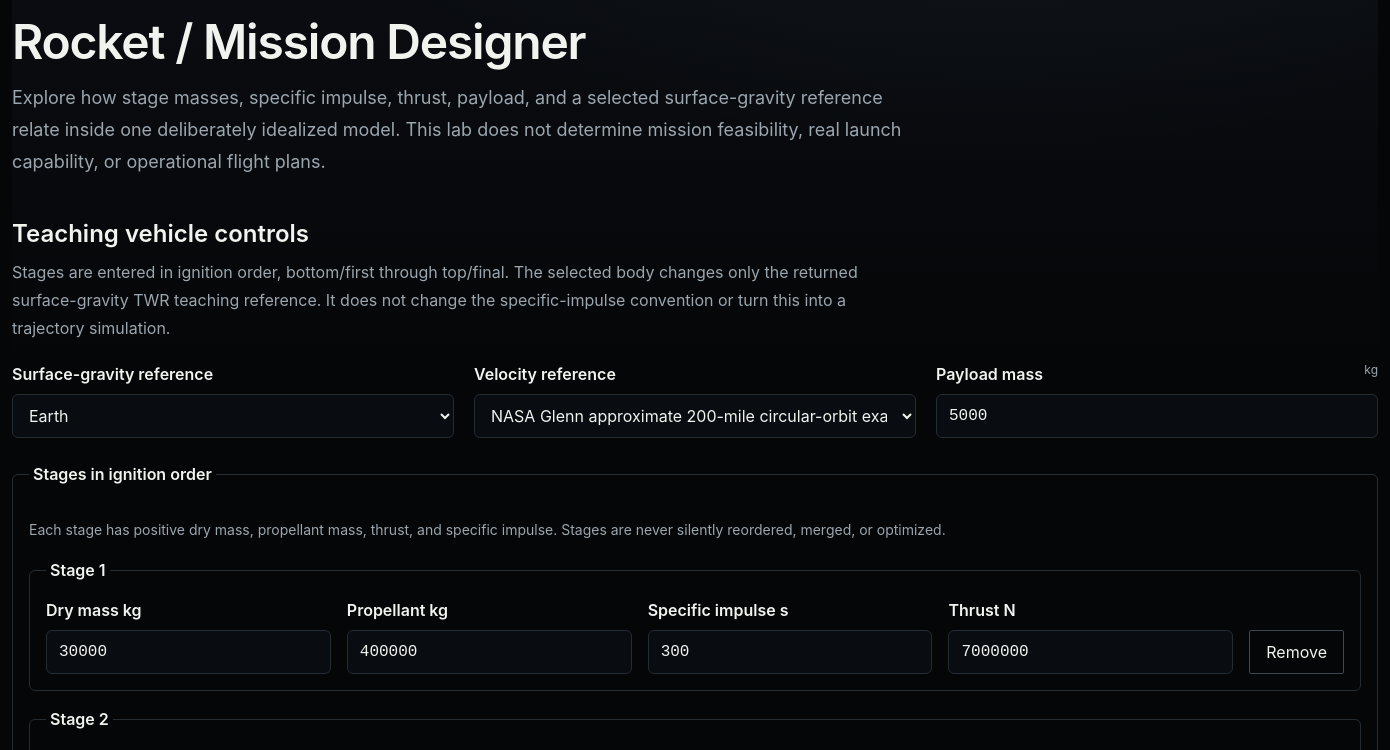
Test case: RocketMissionDesignerView › commits only an accepted exact Python-owned result
Replace the text in the number field labelled "Payload mass kg" with "6000" at (1157, 416), box [936,394,1378,438]
(page scrolled)
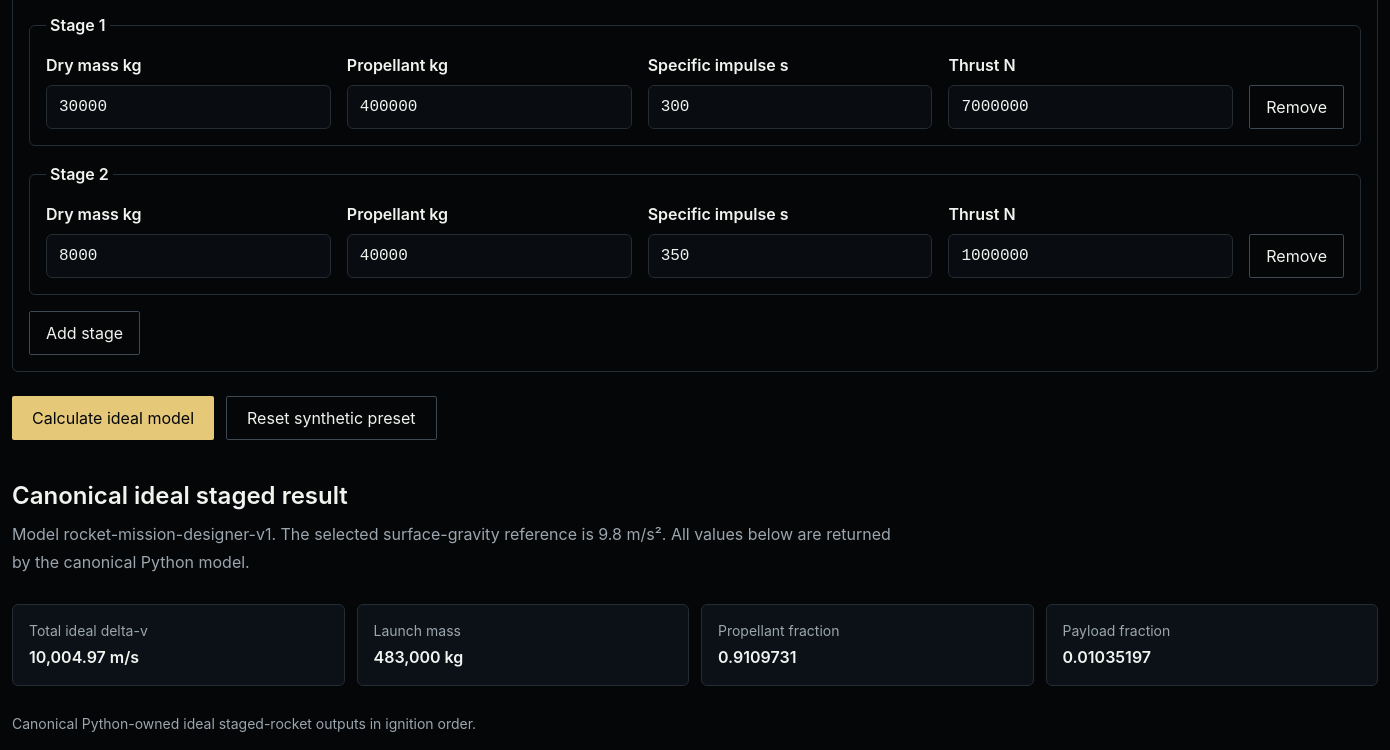
Click the button "Calculate ideal model" at (113, 418), box [12,396,214,440]
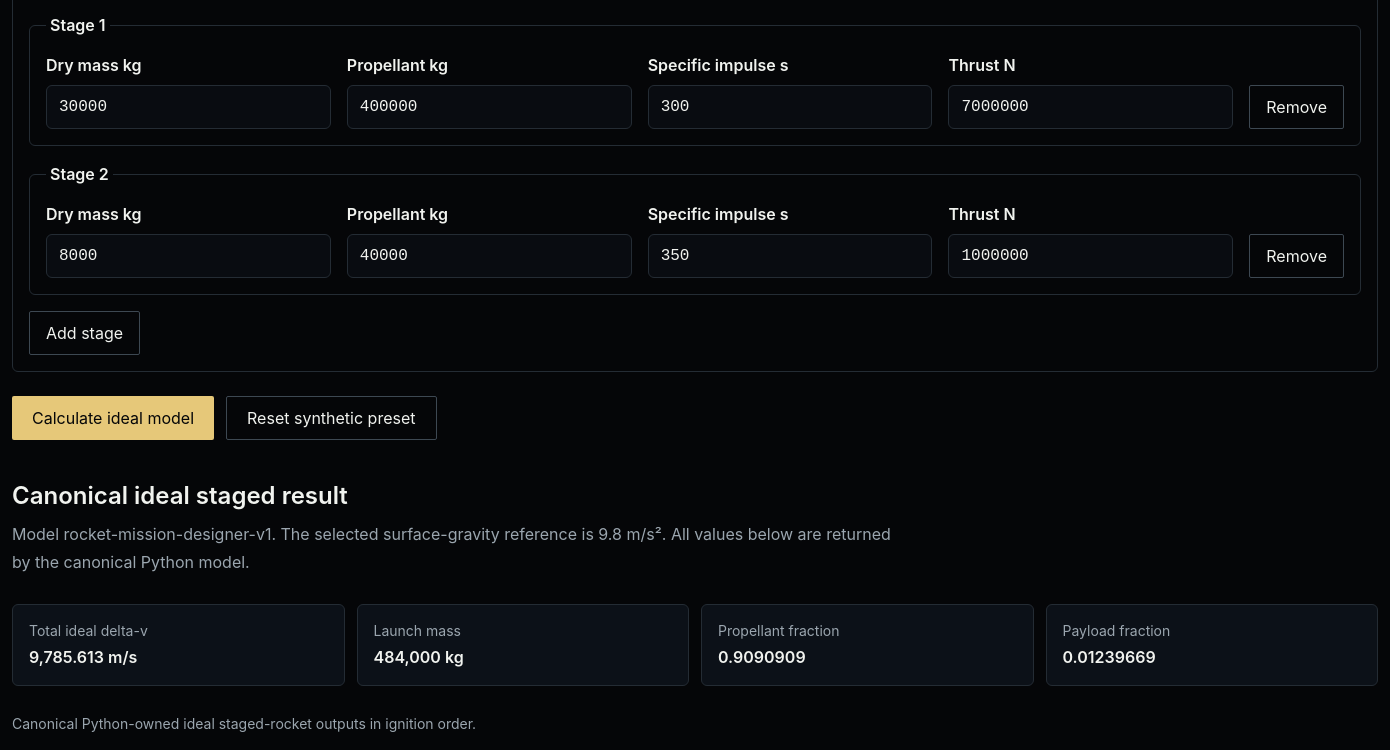
expect the text "9,785.613 m/s" is shown: met, box [29,647,137,667]
